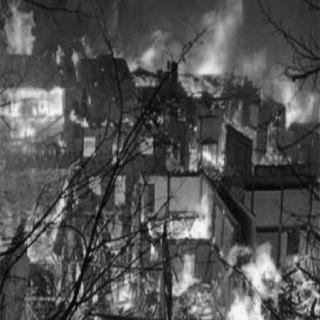Fire: (0, 1, 317, 315)
